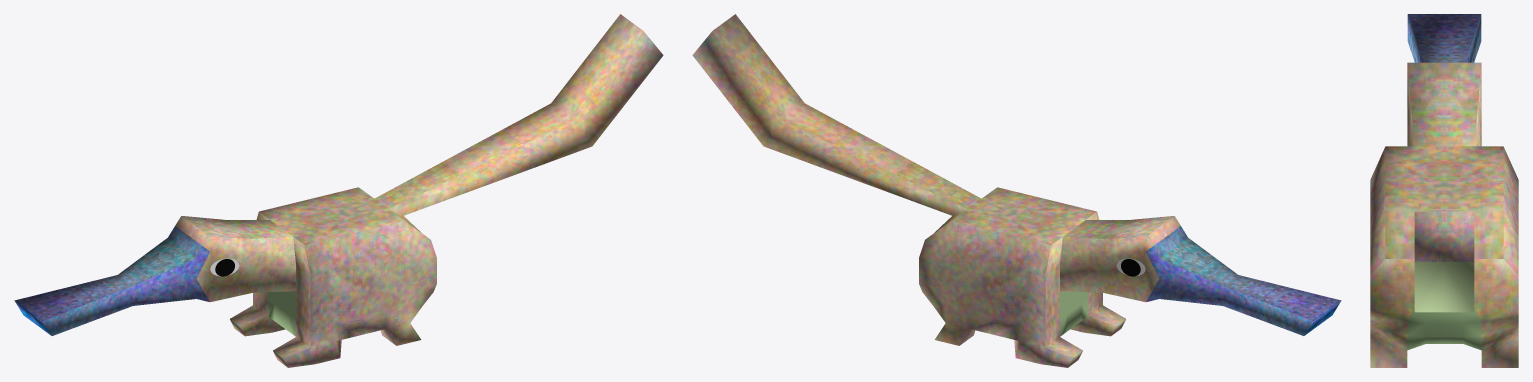
The model's file is platypus_wAnimation.glb.
3 renders of one model, left to right at view 1: azimuth 30°, elevation 25°; view 2: azimuth 150°, elevation 25°; view 3: azimuth 270°, elevation 25°, orthographic. The views are drawn at different scales.
Visible parts, largest first — view 1: platypus; view 2: platypus; view 3: platypus.
Boxes of the visible parts, x1,y1,x2,y2 form: platypus: (14, 14, 663, 367); platypus: (692, 14, 1341, 367); platypus: (1370, 14, 1518, 367).
Bounding box in the file's own units: 12.49 × 4.56 × 2.
4 materials, 4 textured.
